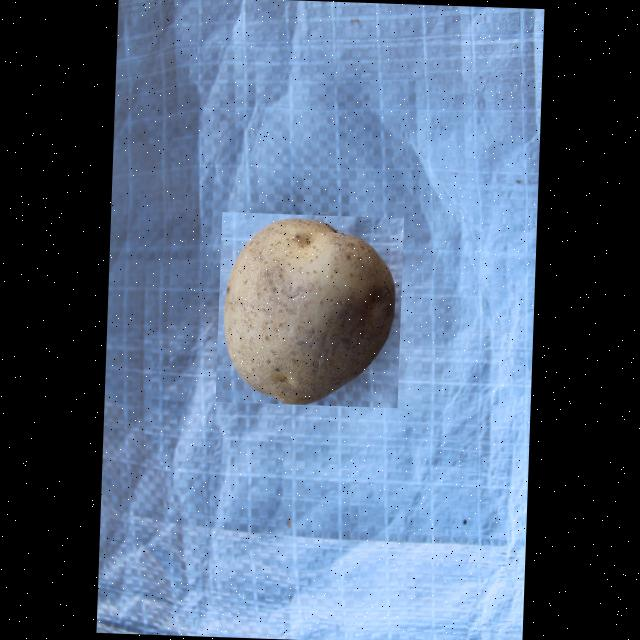Diseased-fungal potato: (215, 210, 404, 407)
